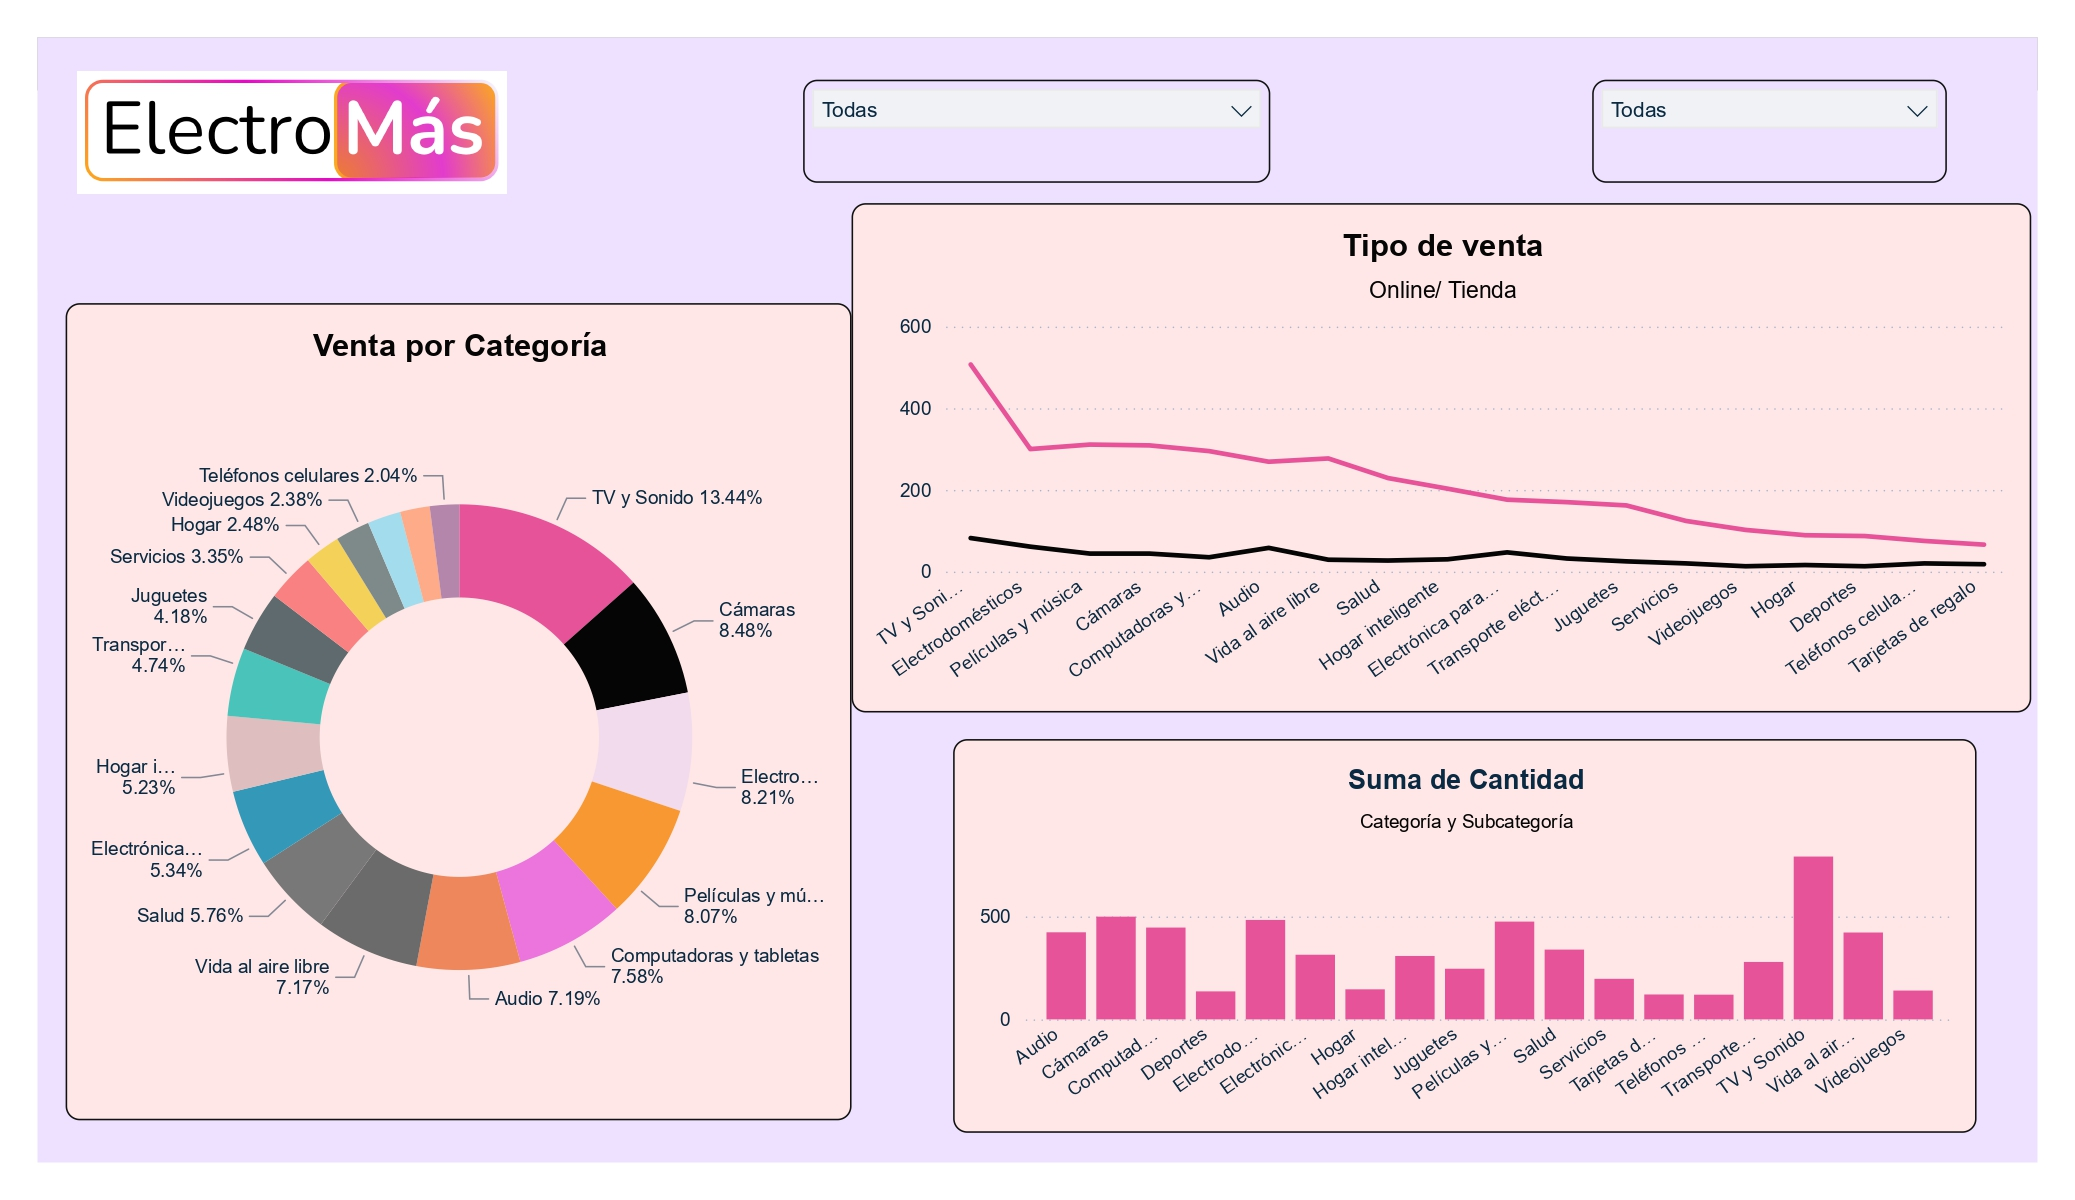

The page's visual inventory and layout, read from the dashboard file:
{"tool":"powerbi","page":{"name":"Composición de Ventas","canvas":[1280,720],"ordinal":1},"visuals":[{"type":"donutChart","title":"Venta por Categoría","fields":{"Y":["Sum(Transacciones.Cantidad)"],"Category":["Categorias.Categoría"]},"box":[0,98.9,503.1,522.4],"z":0},{"type":"slicer","fields":{"Values":["Categorias.Categoría"]},"box":[489.8,26.5,299.2,66.4],"z":1000},{"type":"lineChart","title":"Tipo de venta ","fields":{"Category":["Categorias.Categoría"],"Series":["Transacciones.Tipo_venta"],"Y":["CountNonNull(Transacciones.Tipo_venta)"]},"box":[521.2,106.2,755.2,325.7],"z":2000},{"type":"clusteredColumnChart","title":"Suma de Cantidad ","fields":{"Category":["Categorias.Categoría Jerarquía.Categoría","Categorias.Categoría Jerarquía.ID_Subcategoría"],"Y":["Sum(Transacciones.Cantidad)"]},"box":[586.3,448.8,655.1,252.1],"z":3000},{"type":"slicer","fields":{"Values":["Categorias.Subcategoría"]},"box":[995.3,26.5,226.8,66.4],"z":4000}]}

Visuals, with their boxes on the page's 1280x720 design canvas (x1, y1, x2, y2). These are canvas units, not pixel positions in the 2075x1200 screenshot, which may show the page scaled, cropped or inside an application window:
"Venta por Categoría" donutChart: rect(0, 99, 503, 621)
slicer - Categorias.Categoría: rect(490, 26, 789, 93)
"Tipo de venta " lineChart: rect(521, 106, 1276, 432)
"Suma de Cantidad " clusteredColumnChart: rect(586, 449, 1241, 701)
slicer - Categorias.Subcategoría: rect(995, 26, 1222, 93)
